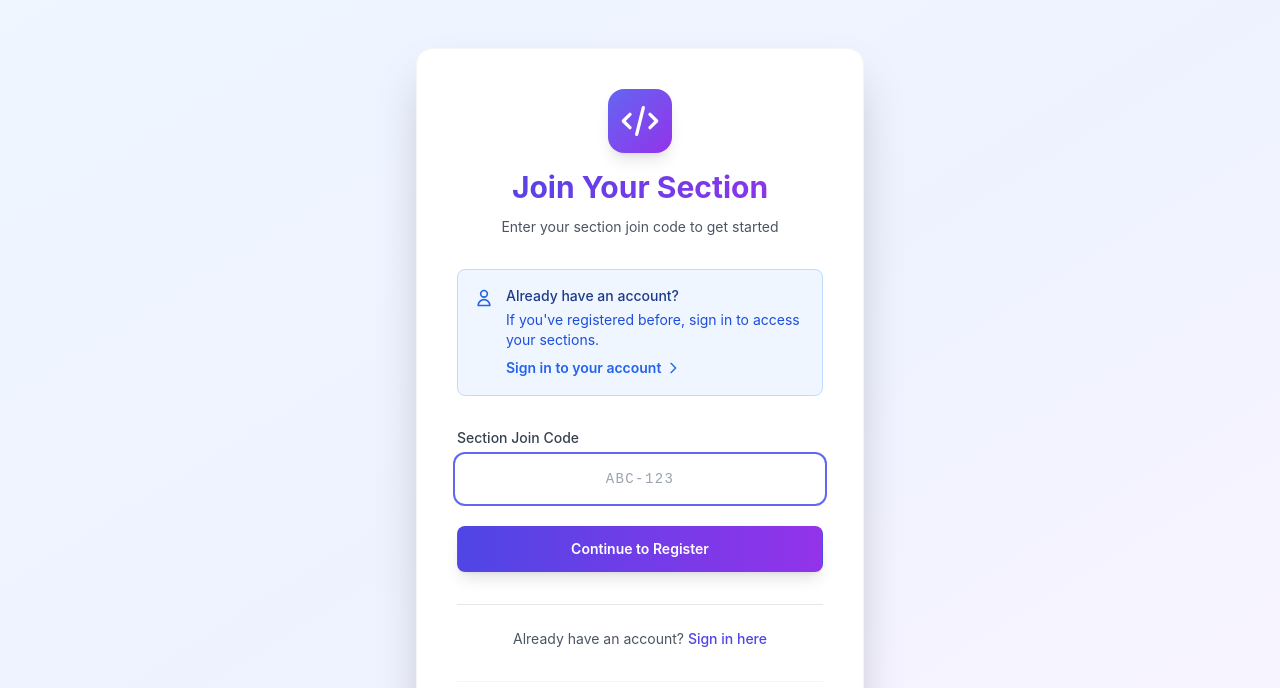
Scenario: StudentRegistrationPage › Code Validation › shows section preview after valid code
Step 1. Type "ABC123" into the field with placeholder "ABC-123" → (640, 479), box [457, 456, 823, 502]
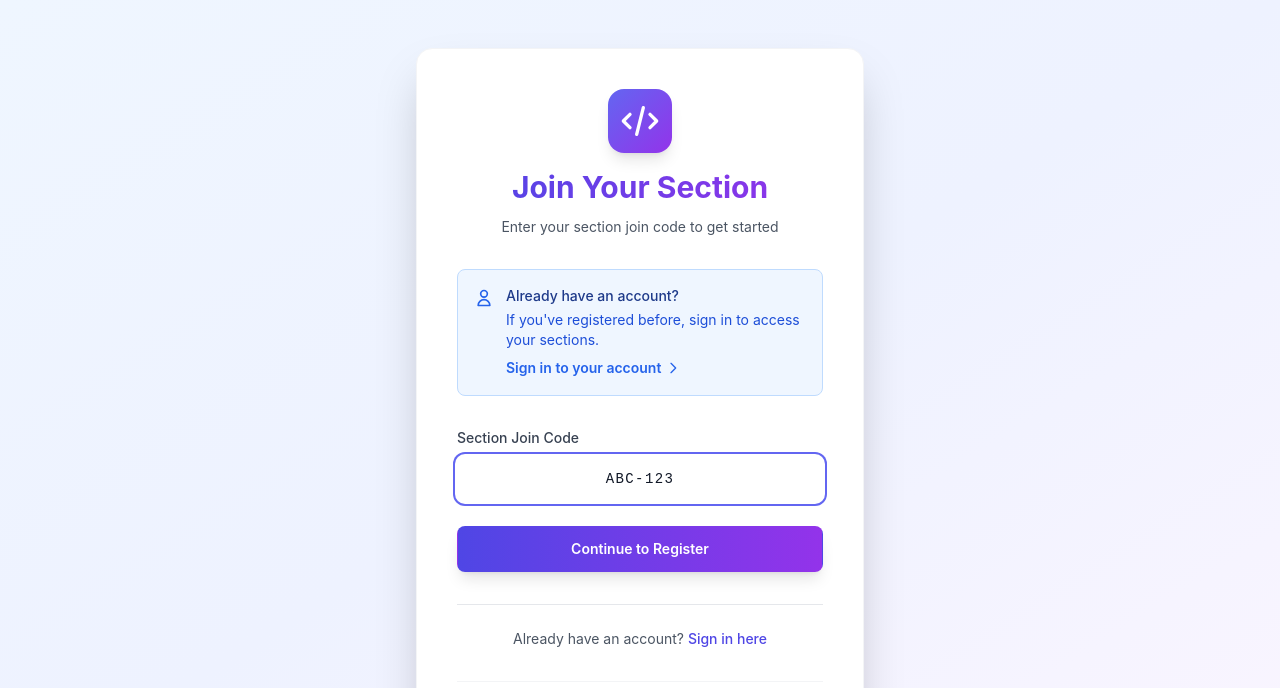
Step 2. Click the button "Continue to Register" → (640, 549), box [457, 526, 823, 572]
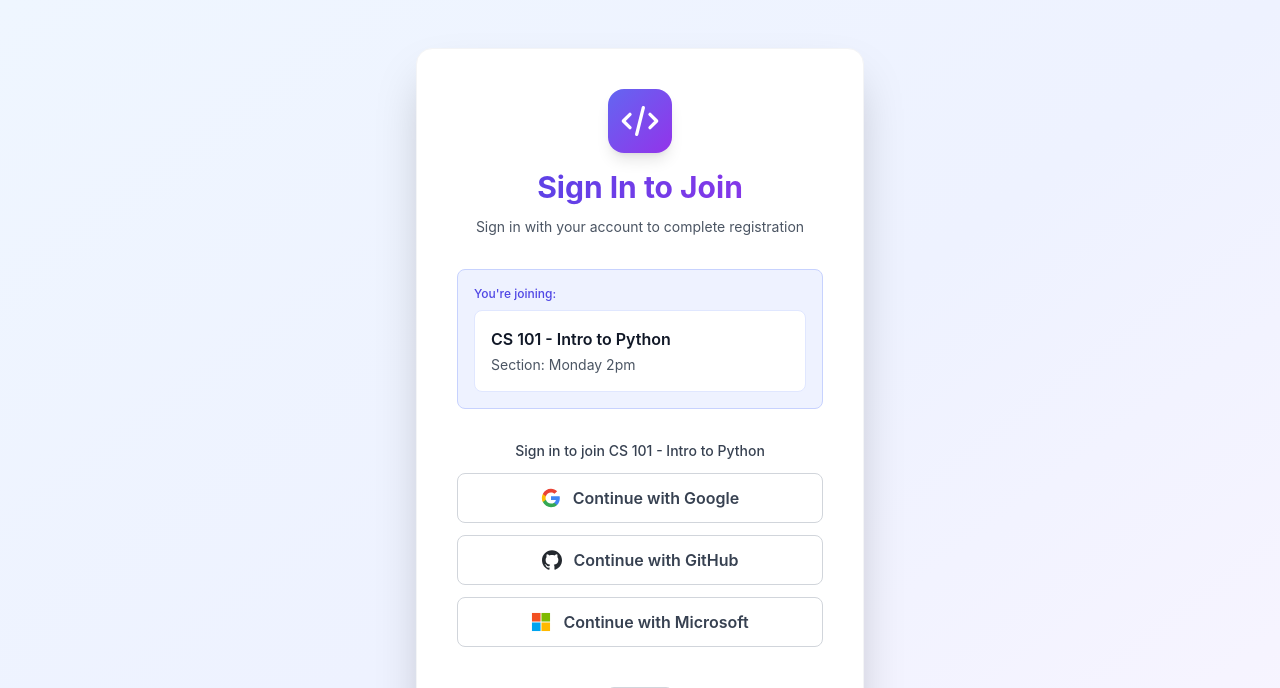
Now the heading "CS 101 - Intro to Python" is shown, box [491, 329, 671, 349]
Now the text "Section: Monday 2pm" is shown, box [491, 356, 636, 373]
